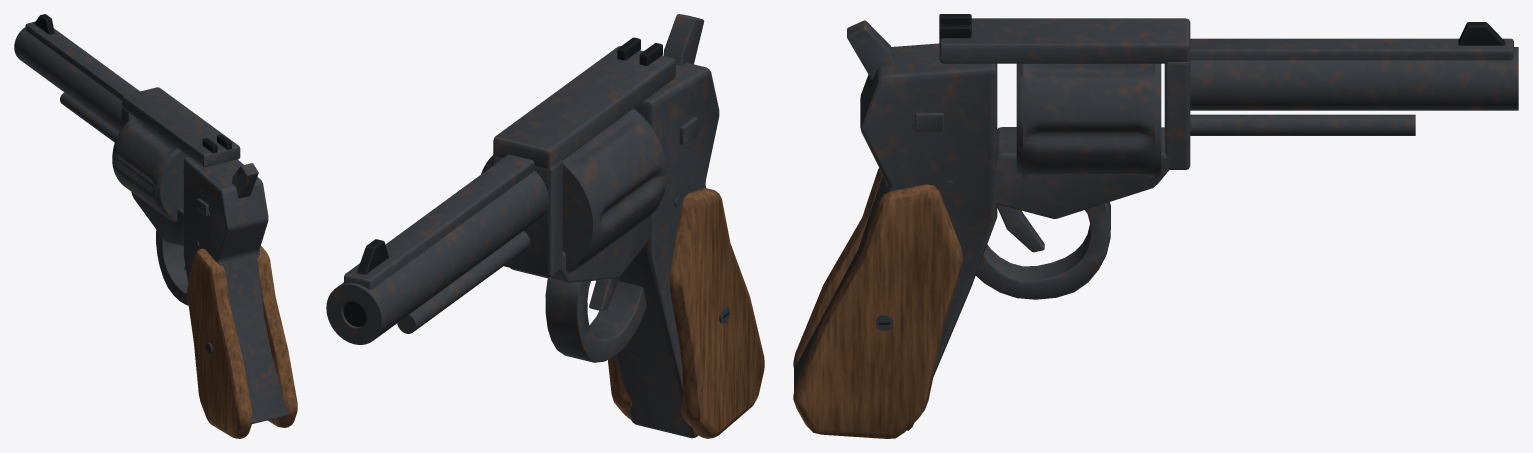
File: revolver.glb
3 views of the same model, side by side, from view 1: azimuth 30°, elevation 25°; view 2: azimuth 150°, elevation 25°; view 3: azimuth 270°, elevation 25° (orthographic). The views are drawn at different scales.
Parts seen in each view (by area): view 1: Revolver, Tambor; view 2: Revolver, Tambor; view 3: Revolver, Tambor.
Boxes of the visible parts, <box> form: Revolver: <box>14,14,297,438</box>; Tambor: <box>112,116,188,222</box>; Revolver: <box>326,14,764,438</box>; Tambor: <box>481,108,666,272</box>; Revolver: <box>793,14,1518,438</box>; Tambor: <box>1016,63,1161,177</box>.
Size of the model in its own units: 0.044 by 0.14 by 0.23.
Materials: 1 (1 with a texture image).
